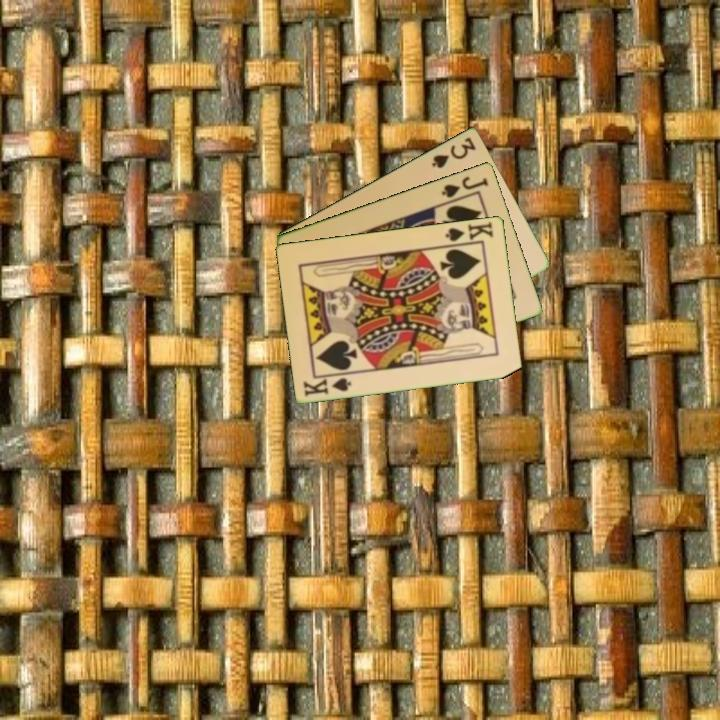3s: (428, 133, 479, 171)
Js: (438, 172, 491, 200)
Ks: (442, 218, 496, 244), (300, 374, 354, 399)
